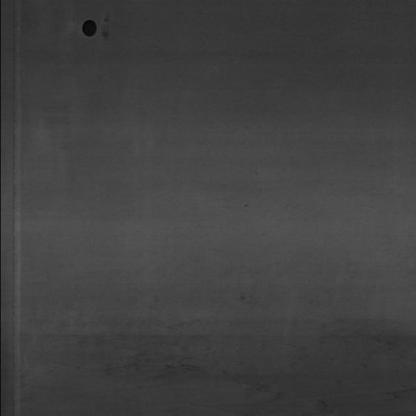punching_hole: (76, 18, 99, 39)
silk_spot: (61, 320, 280, 409)
welding_line: (5, 3, 29, 414)
